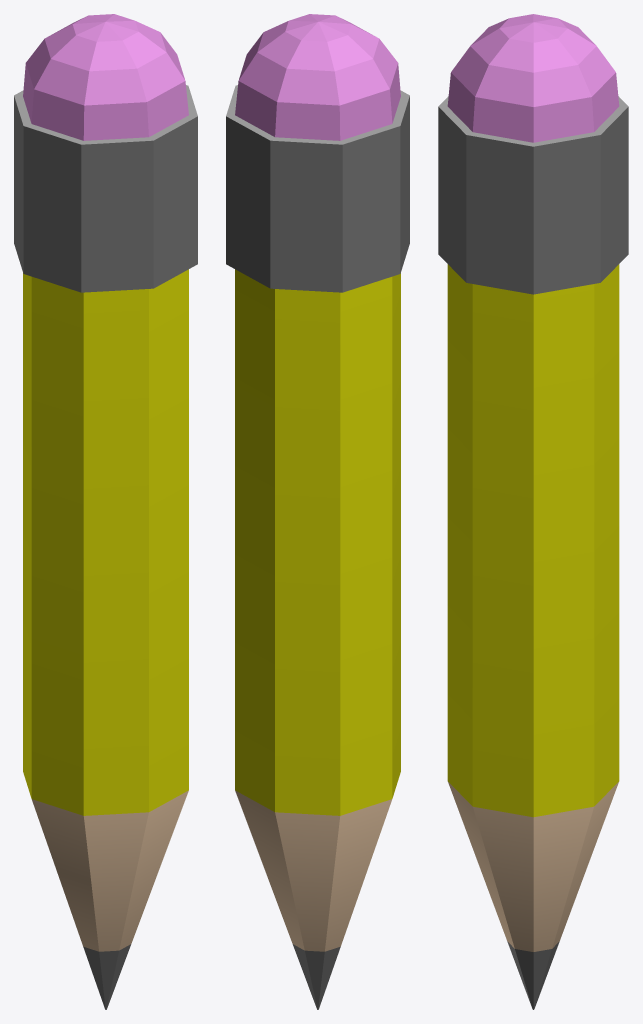
File: Pencil.fbx
3 renders of one model, left to right at view 1: azimuth 30°, elevation 25°; view 2: azimuth 150°, elevation 25°; view 3: azimuth 270°, elevation 25°, orthographic.
Visible parts, largest first — view 1: Pencil; view 2: Pencil; view 3: Pencil.
Boxes of the visible parts, x1,y1,x2,y2 form: Pencil: (14,14,197,1009); Pencil: (226,14,409,1009); Pencil: (438,14,628,1009).
Size of the model in its own units: 1.42 by 8.12 by 1.42.
